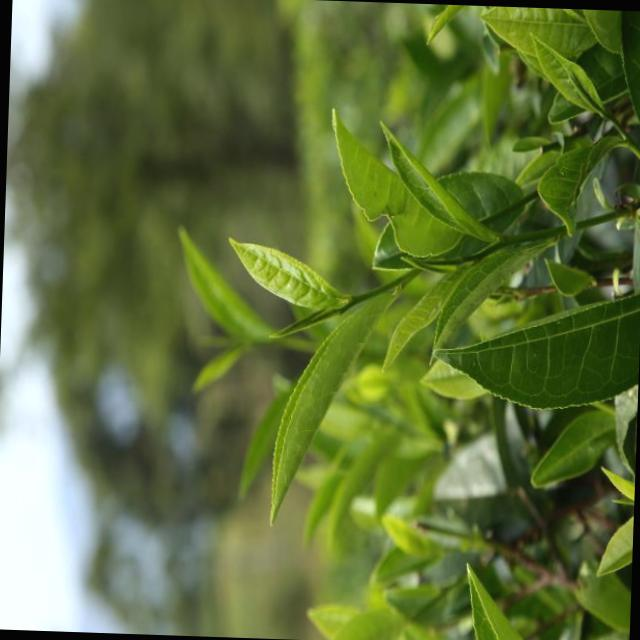Stem: (600, 111, 611, 121), (473, 251, 483, 261), (351, 294, 359, 304)
